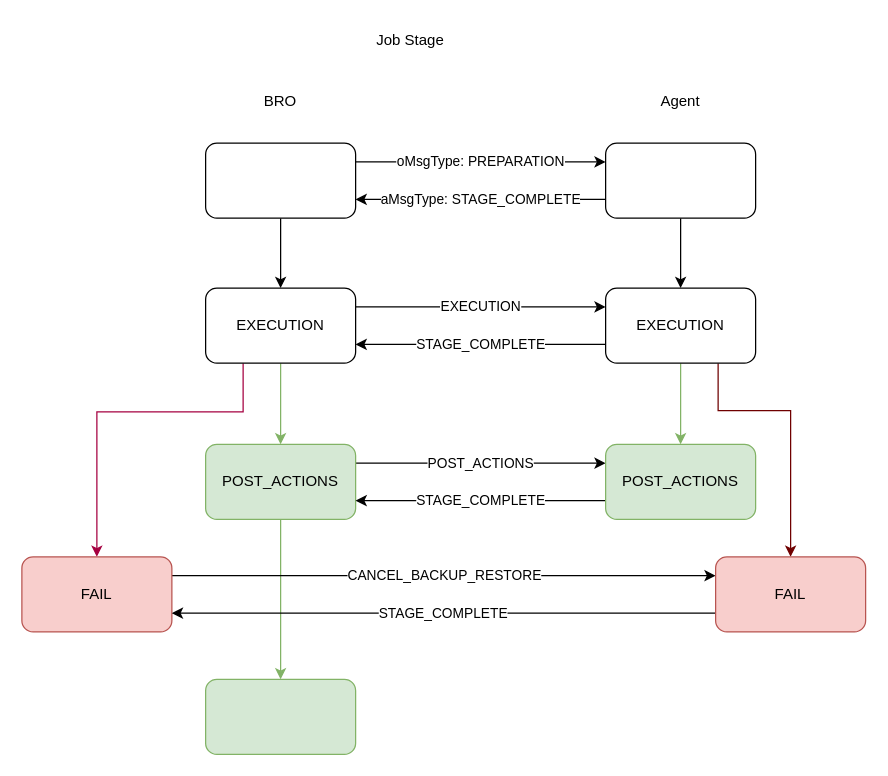
Image size: 888x776. Some labels were removed from this diagram. Here are the shapes that lost their labels. From the top down, the centre of each, then its label:
the point at 280,180: PREPARARTION
the point at 680,180: PREPARATION
the point at 280,716: COMPLETE
